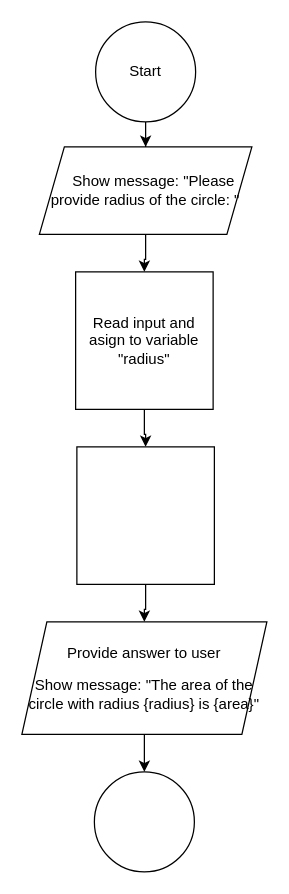
This 289x894 diagram has some shape labels left out. Each missing label, with the box of its shape:
Calculate area with the input of radio using the formula area = π * rˆ2: (76, 446, 214, 584)
End: (93, 771, 194, 872)
